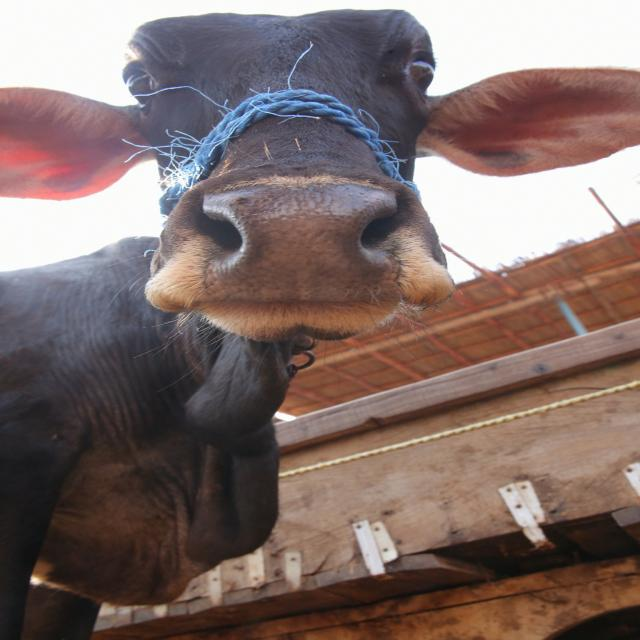muzzles: (180, 173, 426, 308)
